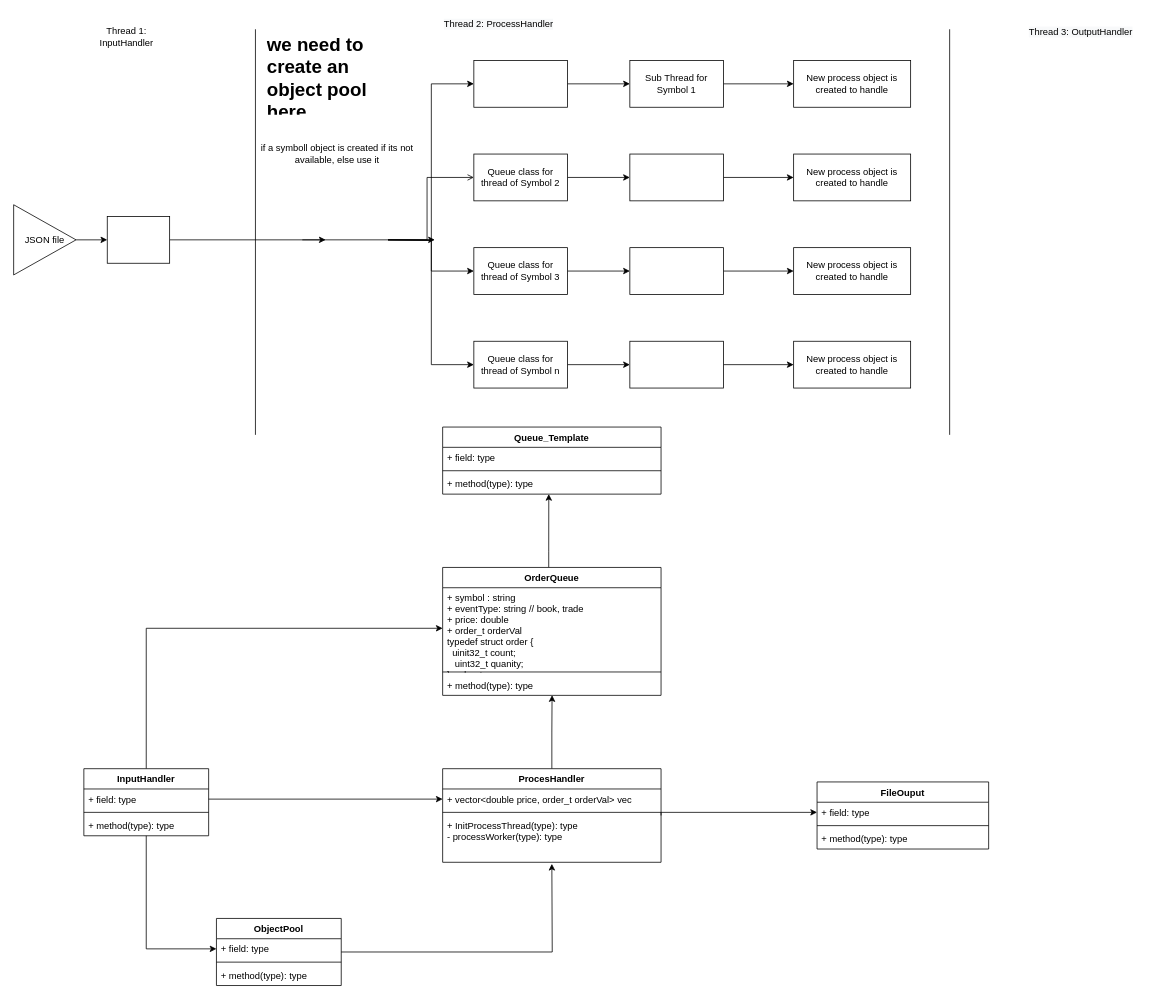
This 1166x1001 diagram has some shape labels left out. Each missing label, with the centre of its shape:
Input: (138,239)
Queue class for thread of Symbol 1: (520,83)
Sub Thread for Symbol 2: (676,177)
Sub Thread for Symbol 3: (676,270)
Sub Thread for Symbol n: (676,364)
